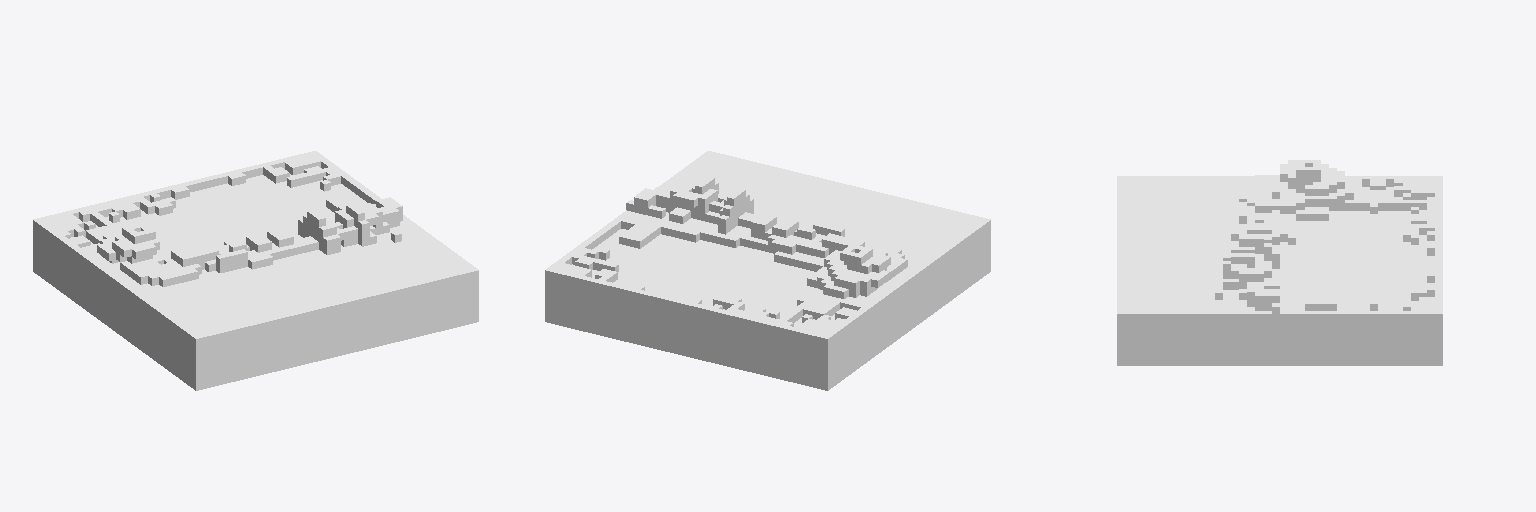
Rendered from tile-9.obj.
3 renders of one model, left to right at view 1: azimuth 30°, elevation 25°; view 2: azimuth 150°, elevation 25°; view 3: azimuth 270°, elevation 25°, orthographic.
Visible parts, largest first — view 1: tile-9; view 2: tile-9; view 3: tile-9.
Boxes of the visible parts, <box> form: tile-9: <box>33,151,478,390</box>; tile-9: <box>545,151,990,390</box>; tile-9: <box>1117,160,1442,365</box>.
Size of the model in its own units: 40 by 11 by 40.